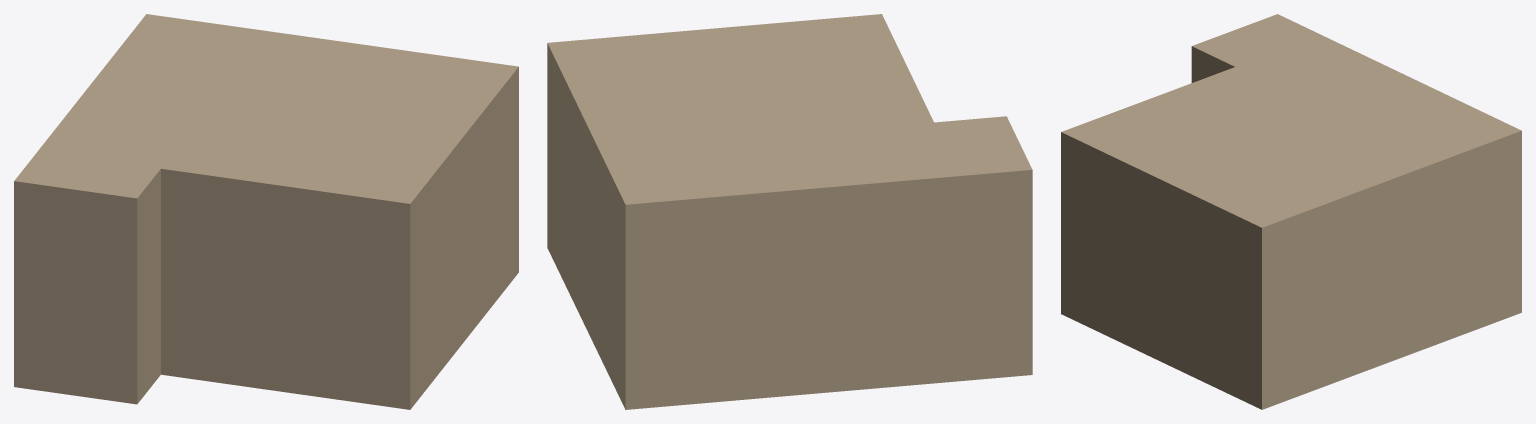
File: bld_101805843.dae
3 views of the same model, side by side, from view 1: azimuth 30°, elevation 25°; view 2: azimuth 150°, elevation 25°; view 3: azimuth 270°, elevation 25° (orthographic). The views are drawn at different scales.
Visible parts, largest first — view 1: bld_101805843; view 2: bld_101805843; view 3: bld_101805843.
Boxes of the visible parts, x1,y1,x2,y2 form: bld_101805843: (14,14,518,409); bld_101805843: (547,14,1032,409); bld_101805843: (1061,14,1521,409).
Size of the model in its own units: 20.16 by 18.35 by 8.
